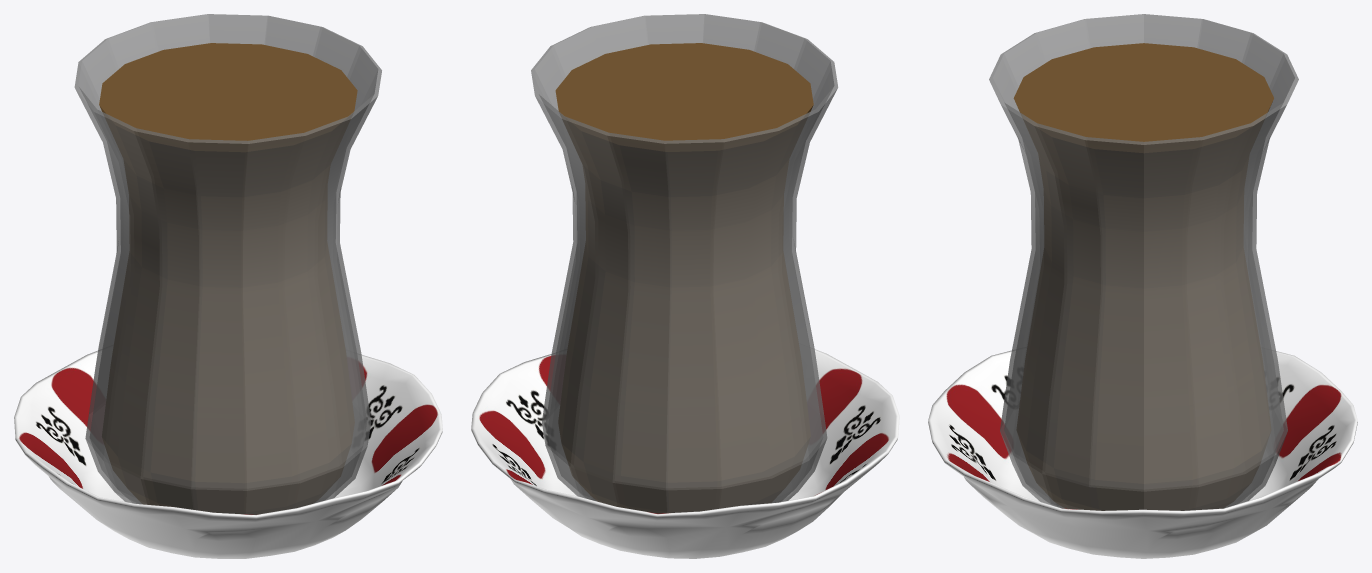
The model's file is Oralets(coffee).fbx.
3 views of the same model, side by side, from view 1: azimuth 30°, elevation 25°; view 2: azimuth 150°, elevation 25°; view 3: azimuth 270°, elevation 25° (orthographic).
Parts seen in each view (by area): view 1: TeaGlass, Coffee, TeaGlassCoater; view 2: TeaGlass, Coffee, TeaGlassCoater; view 3: TeaGlass, Coffee, TeaGlassCoater.
Boxes of the visible parts, x1=… form: TeaGlass: x1=74, y1=14, x2=381, y2=514; Coffee: x1=99, y1=43, x2=357, y2=514; TeaGlassCoater: x1=14, y1=349, x2=442, y2=558; TeaGlass: x1=531, y1=14, x2=838, y2=513; Coffee: x1=555, y1=43, x2=813, y2=513; TeaGlassCoater: x1=471, y1=348, x2=899, y2=558; TeaGlass: x1=989, y1=14, x2=1298, y2=510; Coffee: x1=1013, y1=43, x2=1273, y2=510; TeaGlassCoater: x1=928, y1=350, x2=1357, y2=558.
Bounding box in the file's own units: 51.36 × 56.79 × 51.36.
3 materials, 1 textured.
